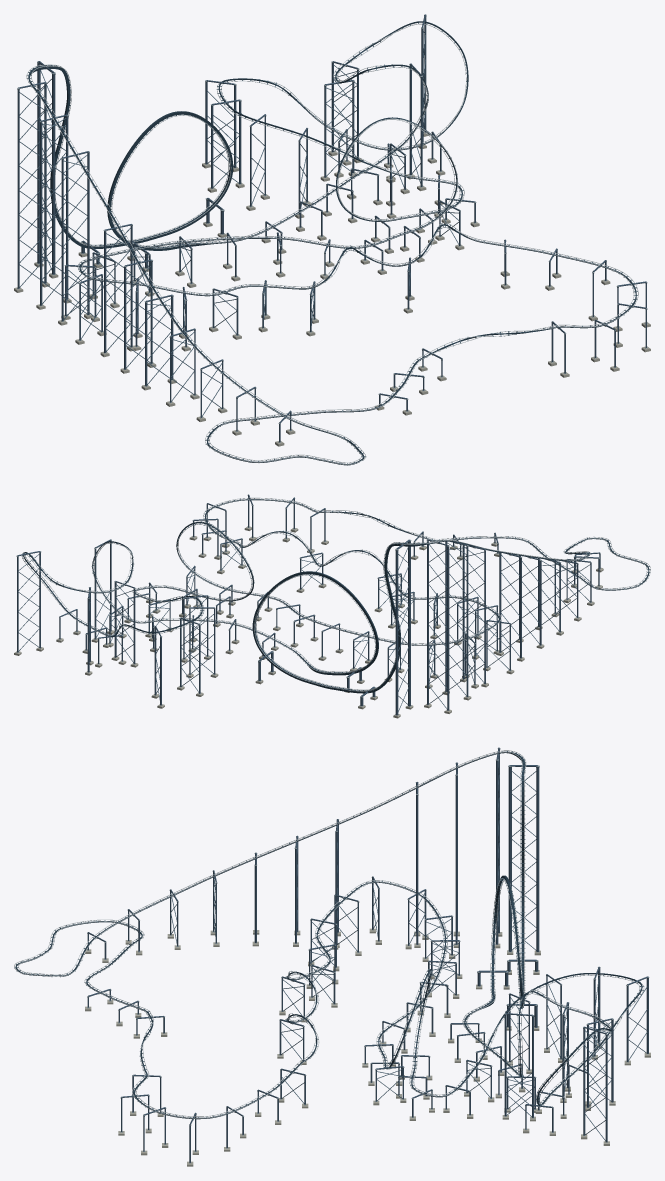
Rendered from coaster-full-structure-near.glb.
3 views of the same model, one above another, from view 1: azimuth 30°, elevation 25°; view 2: azimuth 150°, elevation 25°; view 3: azimuth 270°, elevation 25° (orthographic). The views are drawn at different scales.
Parts seen in each view (by area): view 1: supportCoat, spineCoat, runningSteel, grout, tieCoat, connectionSteel; view 2: supportCoat, spineCoat, runningSteel, grout, tieCoat, connectionSteel; view 3: supportCoat, runningSteel, spineCoat, grout, tieCoat, connectionSteel.
Part boxes in pixels (left/top/right/bottom): supportCoat: left=17, top=14, right=647, bottom=442; spineCoat: left=28, top=21, right=636, bottom=465; runningSteel: left=26, top=23, right=638, bottom=464; grout: left=14, top=133, right=650, bottom=446; tieCoat: left=27, top=22, right=637, bottom=465; connectionSteel: left=17, top=14, right=647, bottom=442; supportCoat: left=16, top=494, right=600, bottom=715; spineCoat: left=23, top=499, right=649, bottom=693; runningSteel: left=22, top=497, right=650, bottom=691; grout: left=14, top=526, right=603, bottom=718; tieCoat: left=22, top=498, right=650, bottom=691; connectionSteel: left=16, top=495, right=600, bottom=715; supportCoat: left=87, top=747, right=648, bottom=1162; runningSteel: left=14, top=750, right=644, bottom=1118; spineCoat: left=15, top=751, right=642, bottom=1119; grout: left=85, top=928, right=650, bottom=1166; tieCoat: left=14, top=751, right=644, bottom=1118; connectionSteel: left=87, top=748, right=648, bottom=1163.
Size of the model in its own units: 214 by 94.44 by 254.
